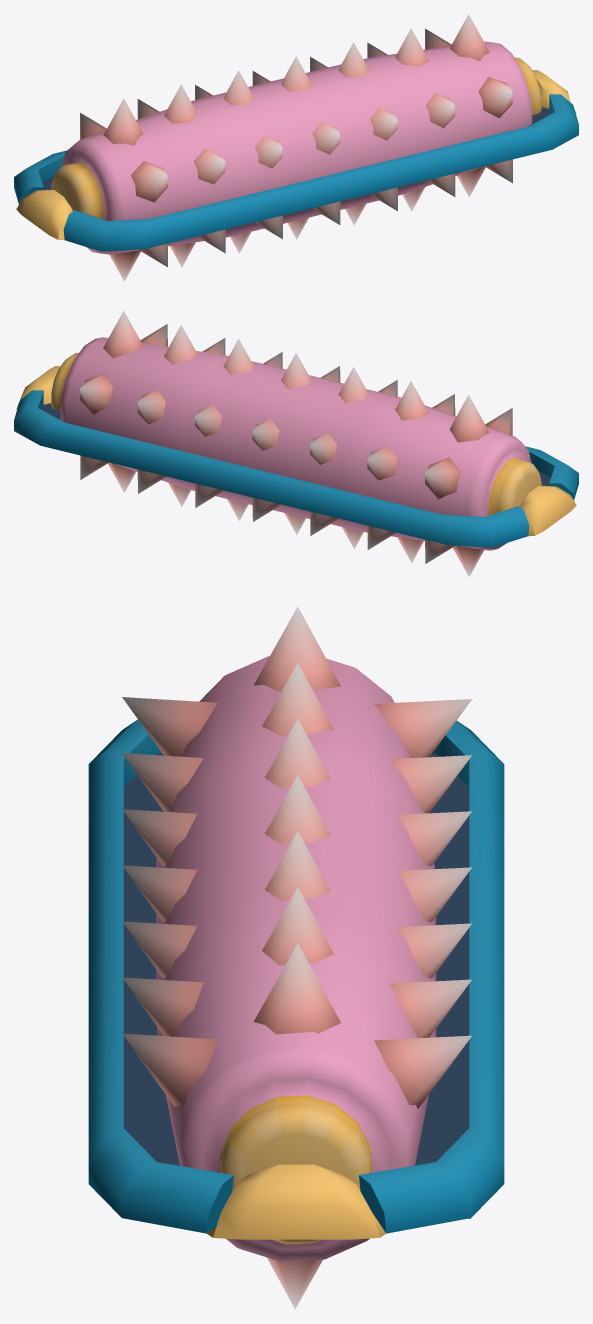
Rendered from Obstacle-7.fbx.
3 renders of one model, top to bottom at view 1: azimuth 30°, elevation 25°; view 2: azimuth 150°, elevation 25°; view 3: azimuth 270°, elevation 25°, orthographic. The views are drawn at different scales.
Parts seen in each view (by area): view 1: Obs-7-C, Obs-7; view 2: Obs-7-C, Obs-7; view 3: Obs-7-C, Obs-7.
Part boxes in pixels (left/top/right/bottom): Obs-7-C: left=51, top=14, right=541, bottom=281; Obs-7: left=14, top=70, right=578, bottom=251; Obs-7-C: left=51, top=311, right=541, bottom=576; Obs-7: left=14, top=366, right=578, bottom=547; Obs-7-C: left=122, top=606, right=471, bottom=1309; Obs-7: left=88, top=719, right=504, bottom=1239.
Size of the model in its own units: 5.81 by 1.95 by 2.
